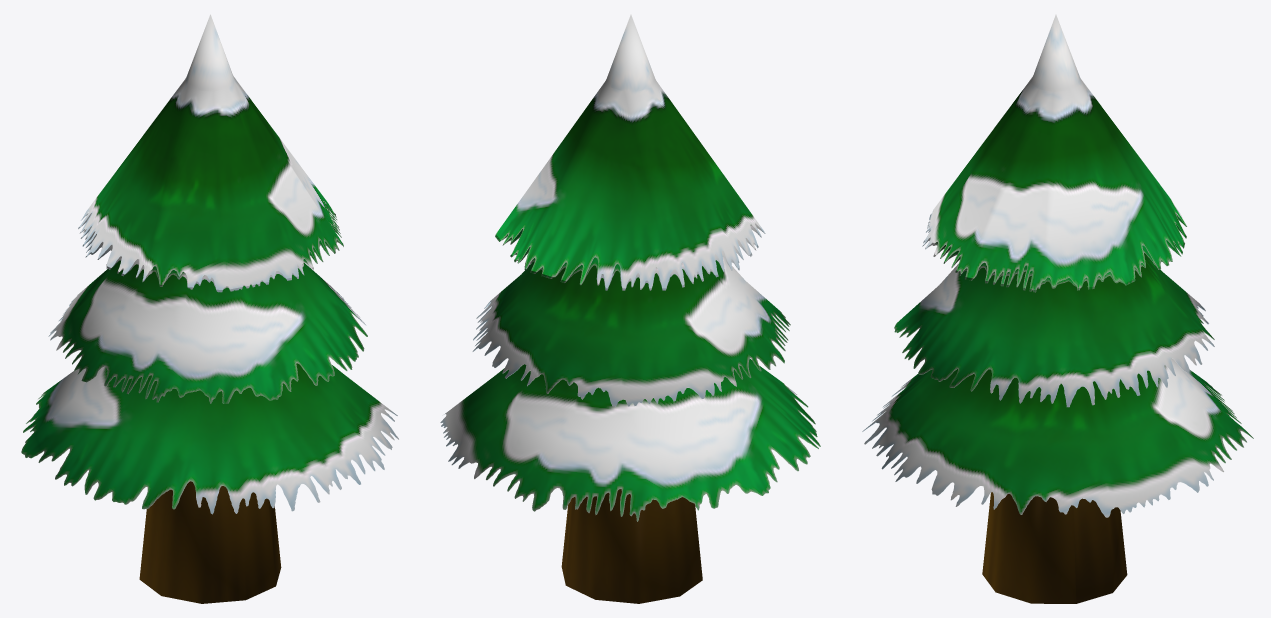
File: TREE.fbx
3 renders of one model, left to right at view 1: azimuth 30°, elevation 25°; view 2: azimuth 150°, elevation 25°; view 3: azimuth 270°, elevation 25°, orthographic.
Parts seen in each view (by area): view 1: Cylinder.052; view 2: Cylinder.052; view 3: Cylinder.052.
Boxes of the visible parts, x1,y1,x2,y2 form: Cylinder.052: (21, 14, 398, 603); Cylinder.052: (440, 14, 820, 603); Cylinder.052: (862, 14, 1253, 603).
Size of the model in its own units: 47.65 by 76.9 by 49.91.
